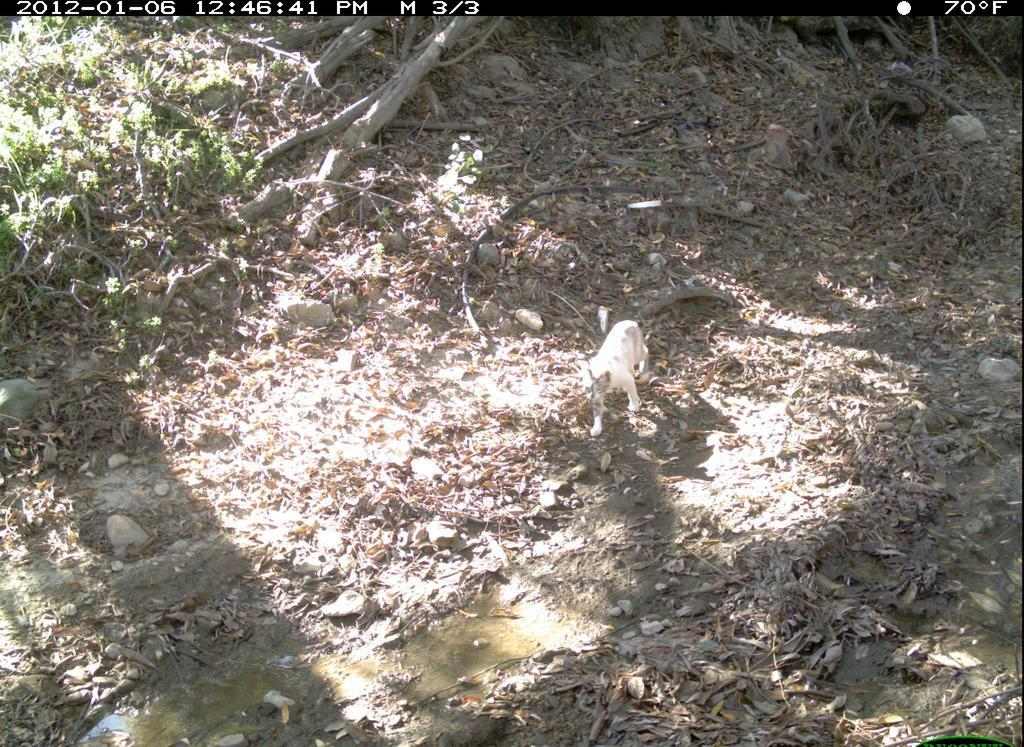cat: (560, 290, 679, 447)
